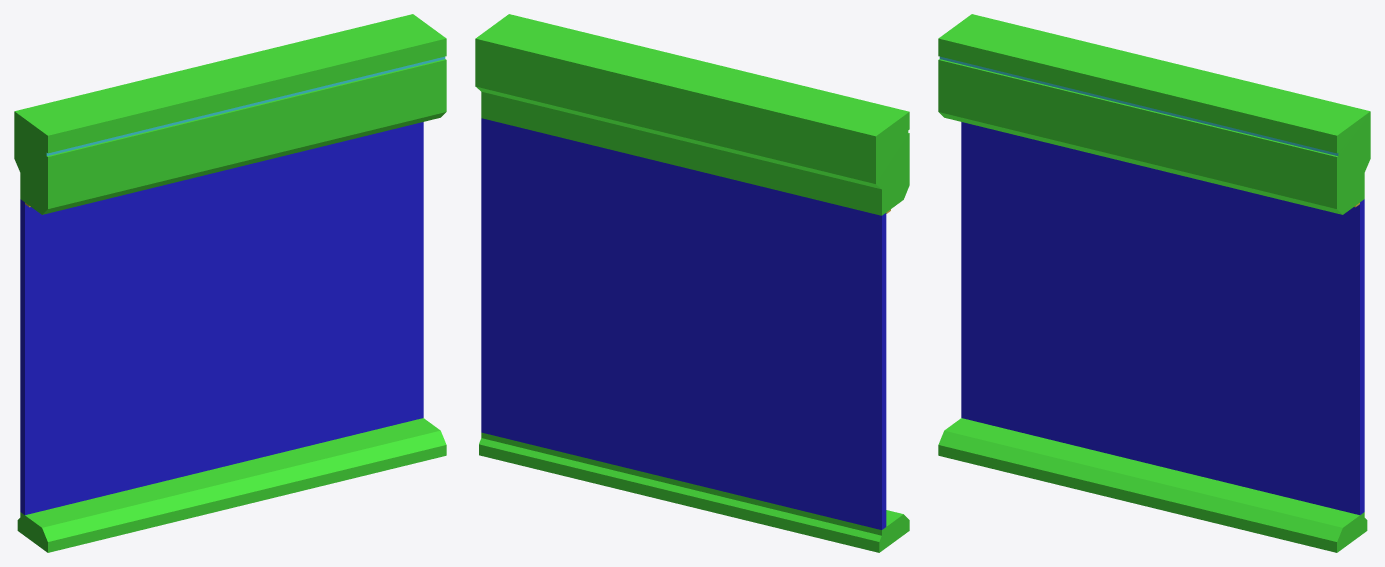
The model's file is Window_10_Interior.fbx.
The picture shows the model from 3 angles, left to right: view 1: azimuth 30°, elevation 25°; view 2: azimuth 150°, elevation 25°; view 3: azimuth 330°, elevation 25°; orthographic projection.
Parts seen in each view (by area): view 1: Window_10_Interior; view 2: Window_10_Interior; view 3: Window_10_Interior.
Part boxes in pixels (<box>): Window_10_Interior: <box>14,14,446,552</box>; Window_10_Interior: <box>475,14,909,552</box>; Window_10_Interior: <box>938,14,1370,552</box>.
Size of the model in its own units: 457 by 457 by 66.53.
